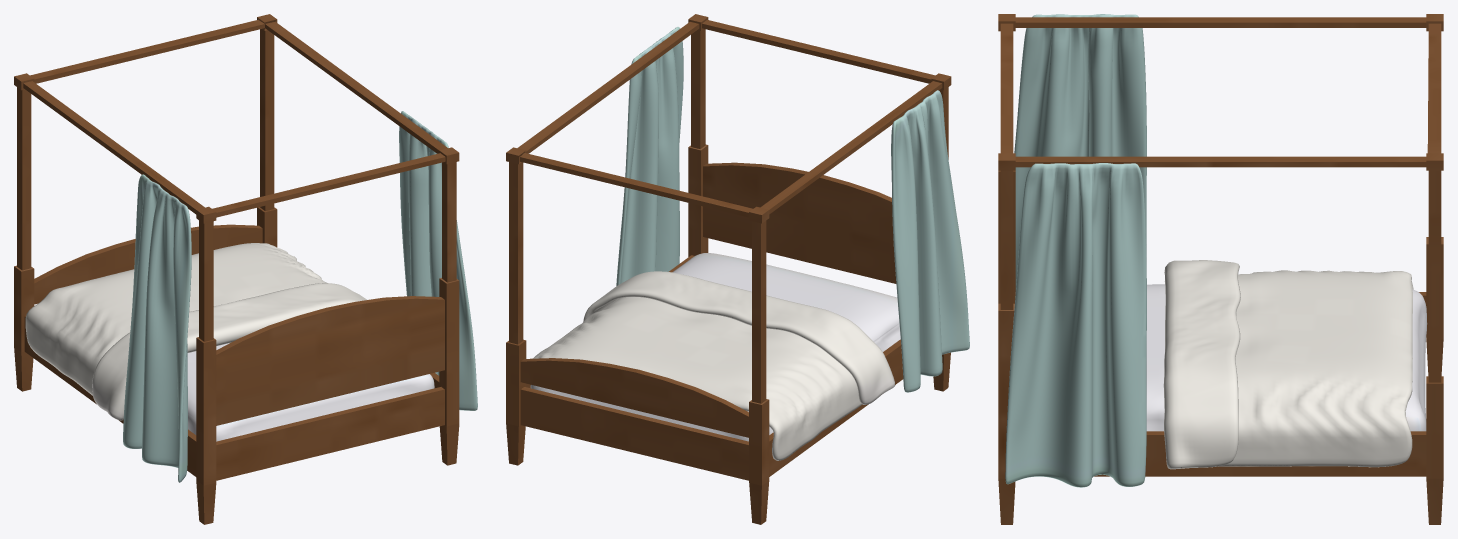
File: Bed28.glb
3 views of the same model, side by side, from view 1: azimuth 30°, elevation 25°; view 2: azimuth 150°, elevation 25°; view 3: azimuth 270°, elevation 25° (orthographic). The views are drawn at different scales.
Visible parts, largest first — view 1: BedFrame28, Blanket28, Curtain28_1, Curtain28_2, Mattress28; view 2: BedFrame28, Blanket28, Curtain28_1, Curtain28_2, Mattress28; view 3: Blanket28, Curtain28_2, BedFrame28, Curtain28_1, Mattress28.
Part boxes in pixels (x1,y1,x2,y2): BedFrame28: (14,14,459,524); Blanket28: (25,243,366,420); Curtain28_1: (123,174,191,482); Curtain28_2: (399,111,477,410); Mattress28: (187,343,434,441); BedFrame28: (506,14,951,524); Blanket28: (533,271,895,460); Curtain28_1: (891,90,969,392); Curtain28_2: (616,27,683,285); Mattress28: (530,253,900,441); Blanket28: (1163,260,1413,469); Curtain28_2: (1005,163,1146,487); BedFrame28: (998,14,1443,524); Curtain28_1: (1014,14,1146,291); Mattress28: (1146,284,1427,431).
Bounding box in the file's own units: 5.28 × 5.12 × 5.65.
Materials: 3 (3 with a texture image).
